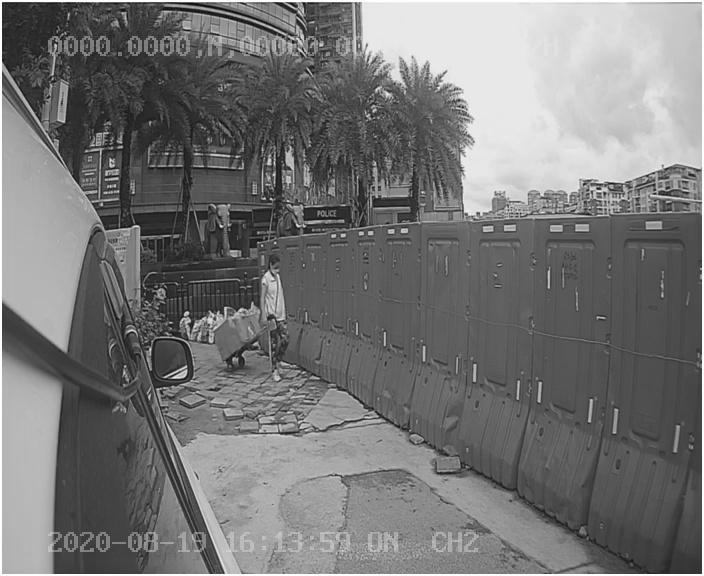person: (251, 248, 311, 380)
